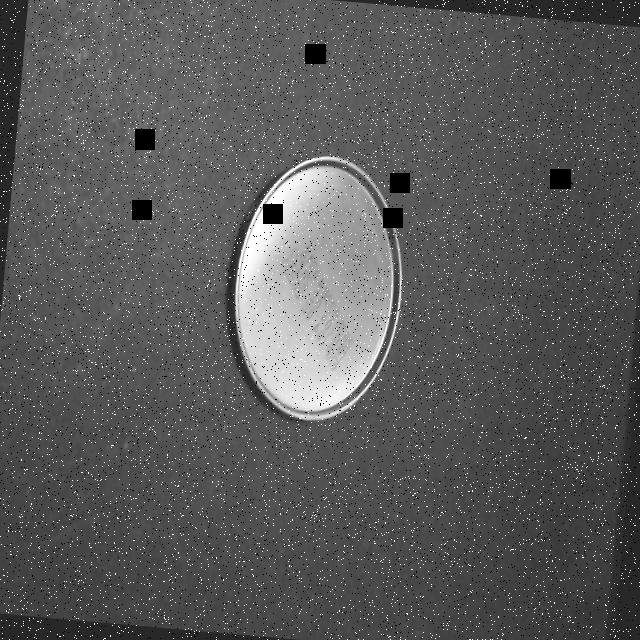can: (215, 145, 418, 432)
